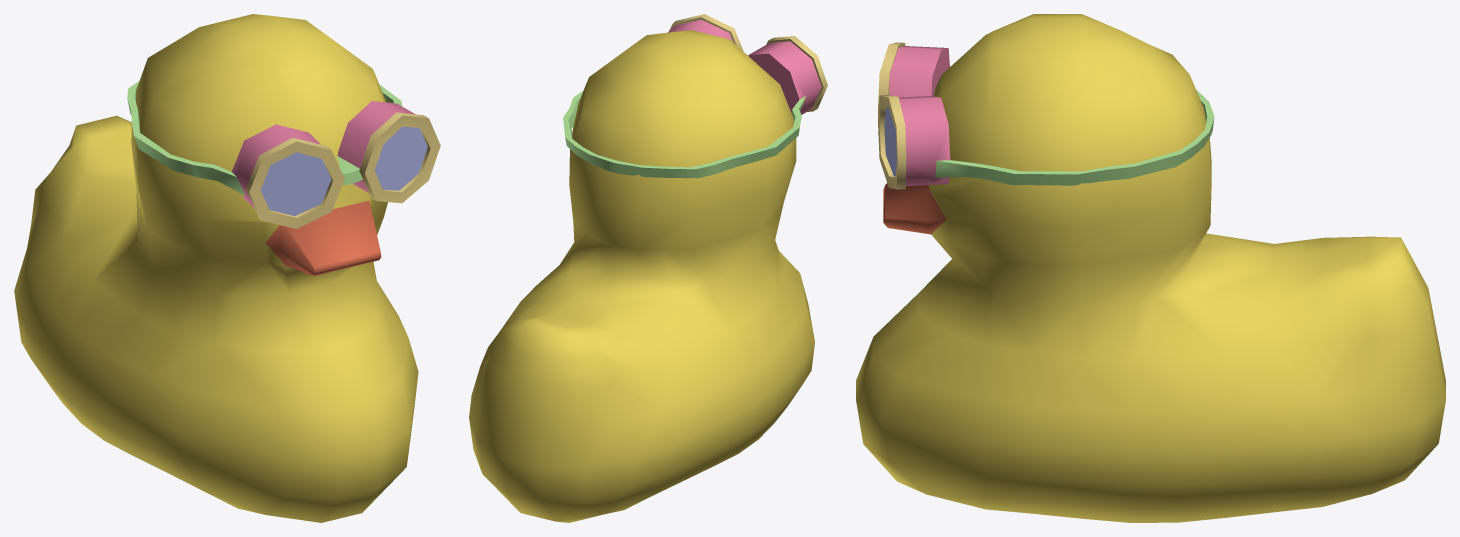
Rendered from rubber_duck.glb.
3 renders of one model, left to right at view 1: azimuth 30°, elevation 25°; view 2: azimuth 150°, elevation 25°; view 3: azimuth 270°, elevation 25°, orthographic. The views are drawn at different scales.
Visible parts, largest first — view 1: RubberDuck, Goggles; view 2: RubberDuck, Goggles; view 3: RubberDuck, Goggles.
Boxes of the visible parts, left/top/right/bottom form: RubberDuck: left=14, top=14, right=418, bottom=522; Goggles: left=127, top=81, right=440, bottom=228; RubberDuck: left=469, top=30, right=814, bottom=522; Goggles: left=563, top=14, right=827, bottom=178; RubberDuck: left=856, top=14, right=1445, bottom=522; Goggles: left=878, top=42, right=1214, bottom=189.
Size of the model in its own units: 0.3432 by 0.5303 by 0.5943.
